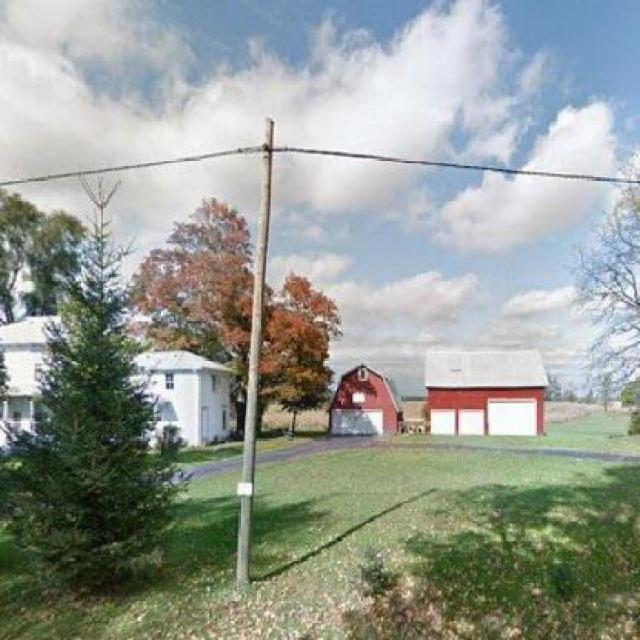pole: (228, 116, 303, 582)
